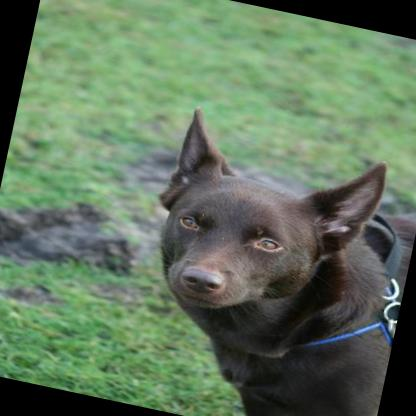kelpie: (110, 100, 416, 416)
